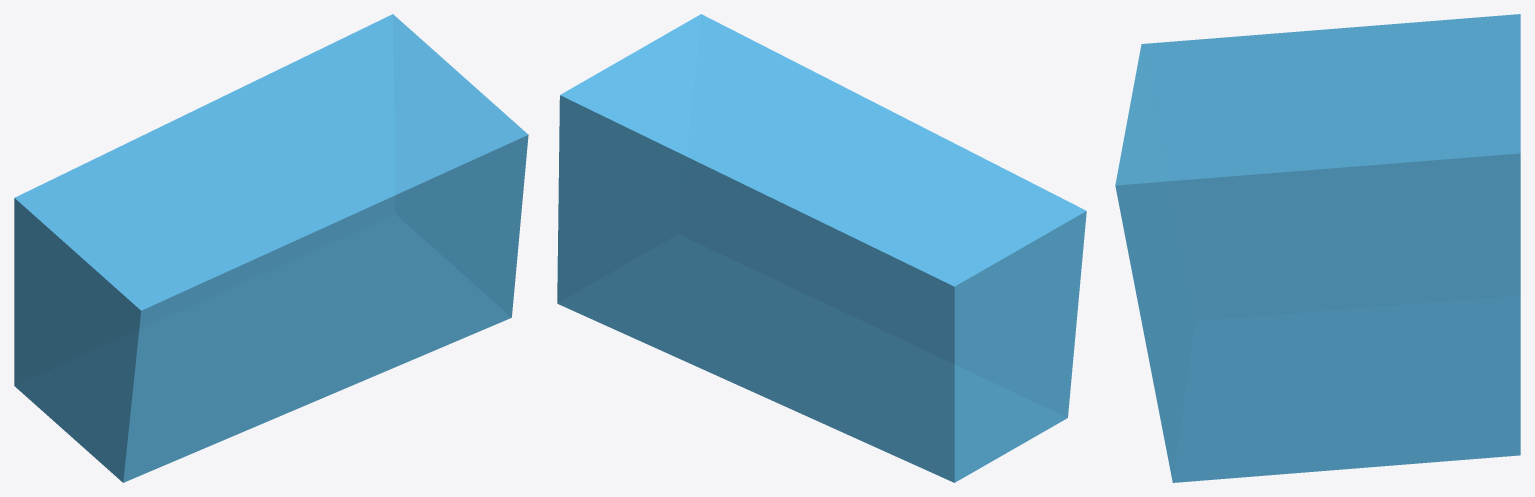
File: Event_421127236_HErechit_17.fbx
3 renders of one model, left to right at view 1: azimuth 30°, elevation 25°; view 2: azimuth 150°, elevation 25°; view 3: azimuth 270°, elevation 25°, orthographic. The views are drawn at different scales.
Parts seen in each view (by area): view 1: Model; view 2: Model; view 3: Model.
Part boxes in pixels (bbox=[...]): Model: bbox=[14, 14, 528, 482]; Model: bbox=[557, 14, 1086, 482]; Model: bbox=[1115, 14, 1520, 482].
Size of the model in its own units: 0.7076 by 0.5269 by 0.436.
